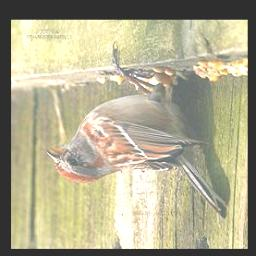Sparrow: (45, 42, 229, 219)
